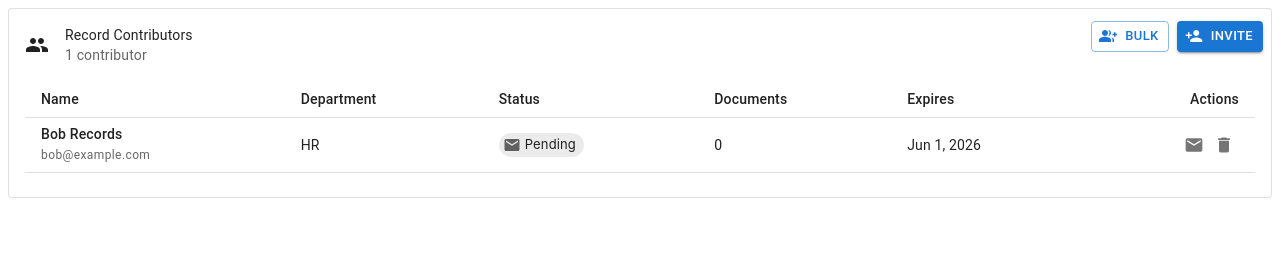
Test: ContributorsPanel › sends a reminder to a contributor
This screenshot has width=1280, height=279.
Expected: the text "Bob Records" is shown, [41,126,122,142]
Click the button with test id "EmailIcon" at (1194, 145), box [1179,130,1209,160]
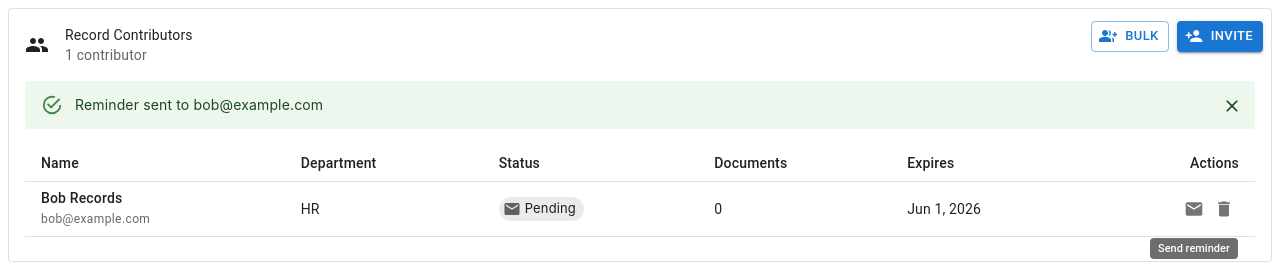
Result: the text "Reminder sent to bob@example.com" is shown at [75,96,323,113]
